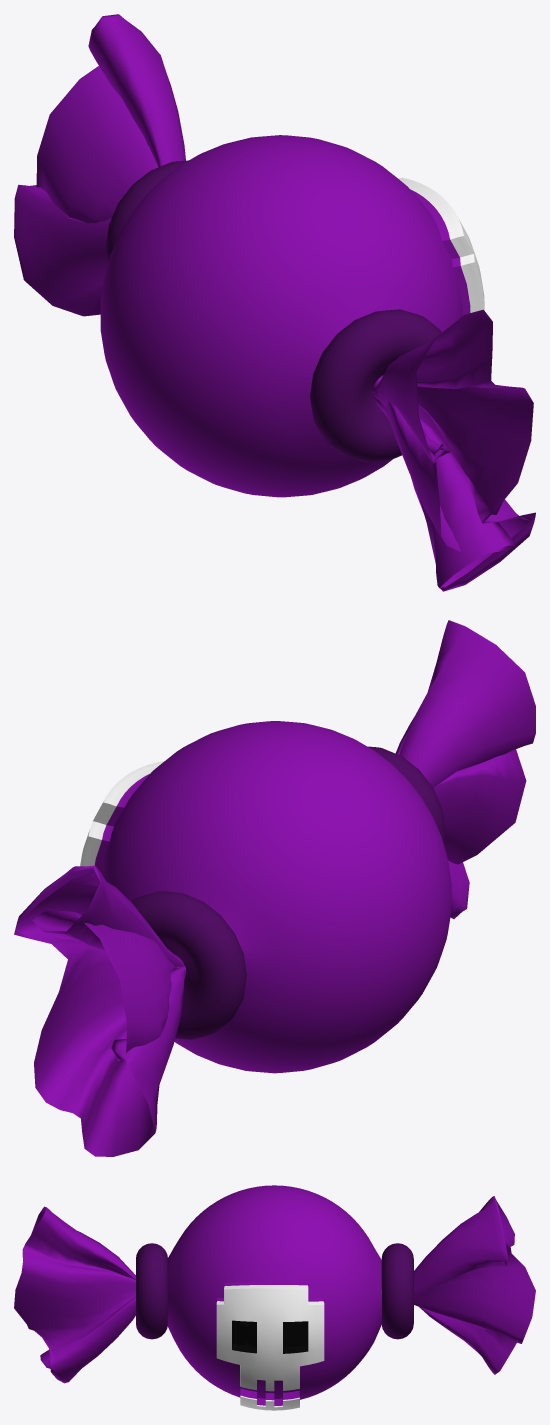
File: Bad_Candy.fbx
3 views of the same model, one above another, from view 1: azimuth 30°, elevation 25°; view 2: azimuth 150°, elevation 25°; view 3: azimuth 270°, elevation 25° (orthographic). The views are drawn at different scales.
Visible parts, largest first — view 1: Bad_Candy, Candy_Ribbion, Candy_Ribbion1; view 2: Bad_Candy, Candy_Ribbion1, Candy_Ribbion; view 3: Bad_Candy, Candy_Ribbion1, Candy_Ribbion.
Part boxes in pixels (box(x1,y1,x2,y2)): Bad_Candy: box(14, 14, 535, 591); Candy_Ribbion: box(310, 309, 441, 462); Candy_Ribbion1: box(105, 160, 188, 262); Bad_Candy: box(14, 620, 535, 1156); Candy_Ribbion1: box(131, 891, 246, 1039); Candy_Ribbion: box(368, 746, 445, 842); Bad_Candy: box(14, 1185, 535, 1410); Candy_Ribbion1: box(381, 1243, 413, 1339); Candy_Ribbion: box(136, 1243, 167, 1339).
Size of the model in its own units: 0.8585 by 0.8063 by 1.93.
1 material, 1 textured.
